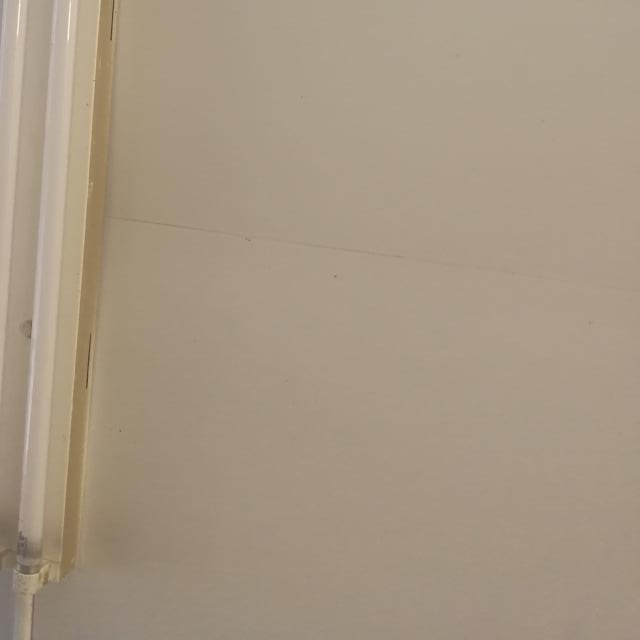fluorescent tube: (0, 0, 197, 628)
